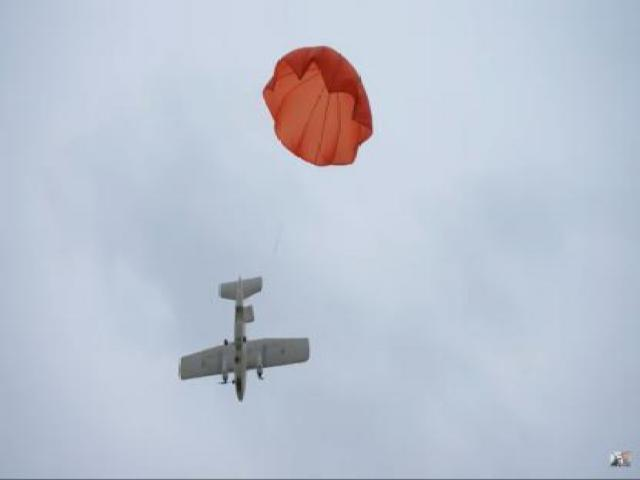uav: (175, 270, 312, 402)
